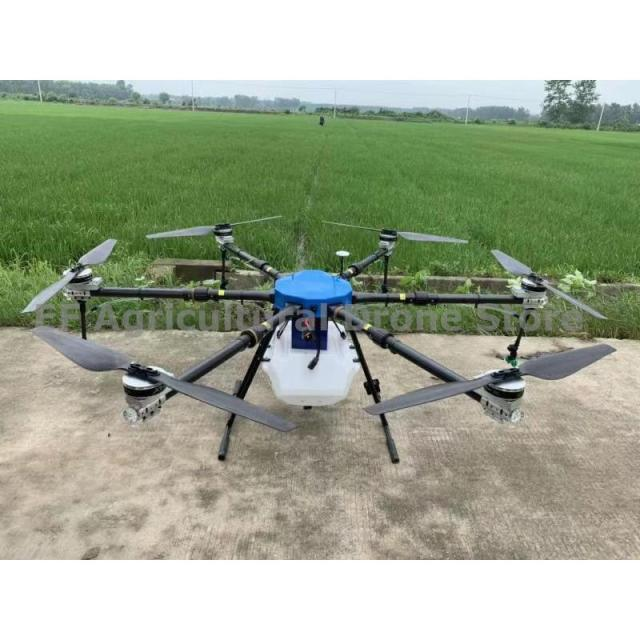drone: (0, 196, 640, 477)
